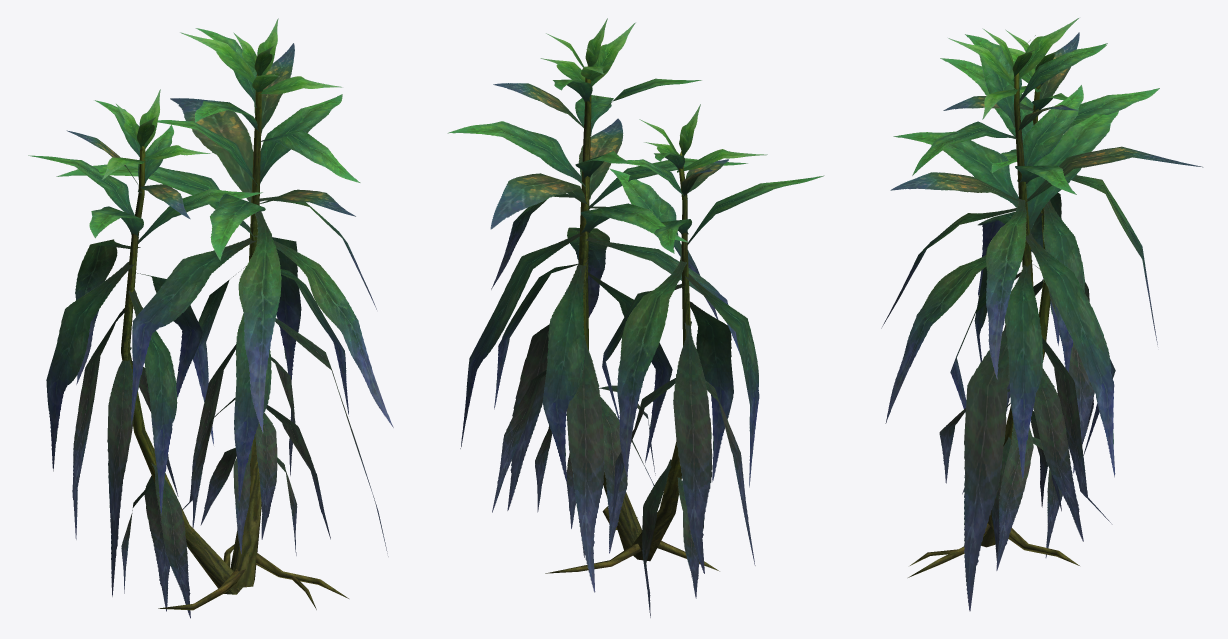
Rendered from environment_Tree_zhiwu_001_a.FBX.
The picture shows the model from 3 angles, left to right: view 1: azimuth 30°, elevation 25°; view 2: azimuth 150°, elevation 25°; view 3: azimuth 270°, elevation 25°; orthographic projection.
Visible parts, largest first — view 1: environment_Tree_zhiwu_001_a, environment_Tree_zhiwu_001_b; view 2: environment_Tree_zhiwu_001_a, environment_Tree_zhiwu_001_b; view 3: environment_Tree_zhiwu_001_a, environment_Tree_zhiwu_001_b.
Boxes of the visible parts, x1,y1,x2,y2 form: environment_Tree_zhiwu_001_a: (28, 18, 393, 618); environment_Tree_zhiwu_001_b: (121, 74, 348, 610); environment_Tree_zhiwu_001_a: (447, 18, 824, 617); environment_Tree_zhiwu_001_b: (545, 65, 719, 573); environment_Tree_zhiwu_001_a: (881, 18, 1203, 611); environment_Tree_zhiwu_001_b: (908, 73, 1079, 577).
Bounding box in the file's own units: 110 × 178 × 96.07.
Materials: 2 (2 with a texture image).
